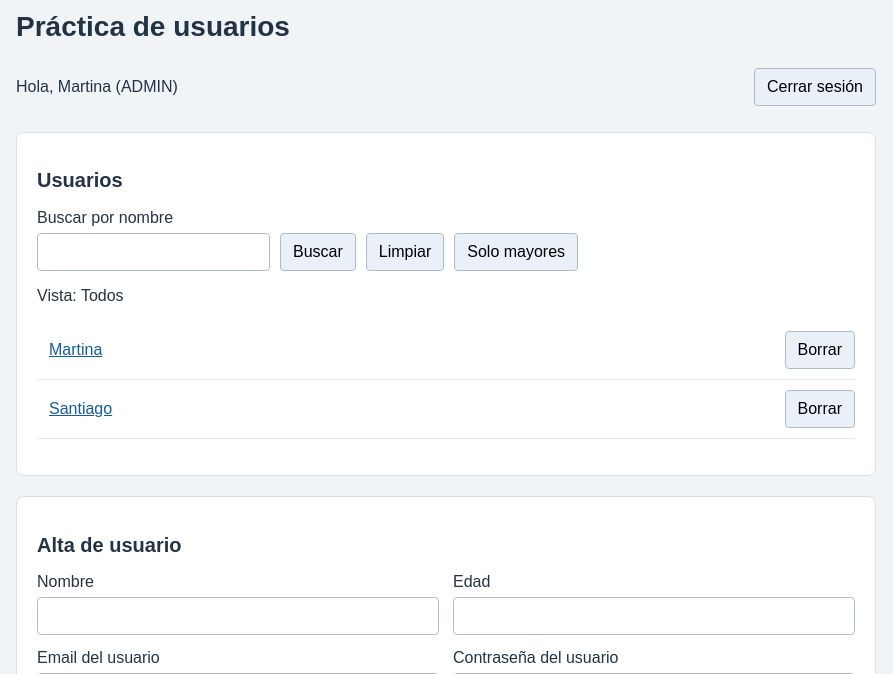
403 al borrar muestra detalle y conserva usuario
Expected: the text "Hola, Martina (ADMIN)" is shown, left=16, top=78, right=178, bottom=96
Expected: the button "Santiago" is shown, left=37, top=390, right=124, bottom=428
Click the 2nd button "Borrar". click: (820, 409)
box: left=784, top=390, right=855, bottom=428
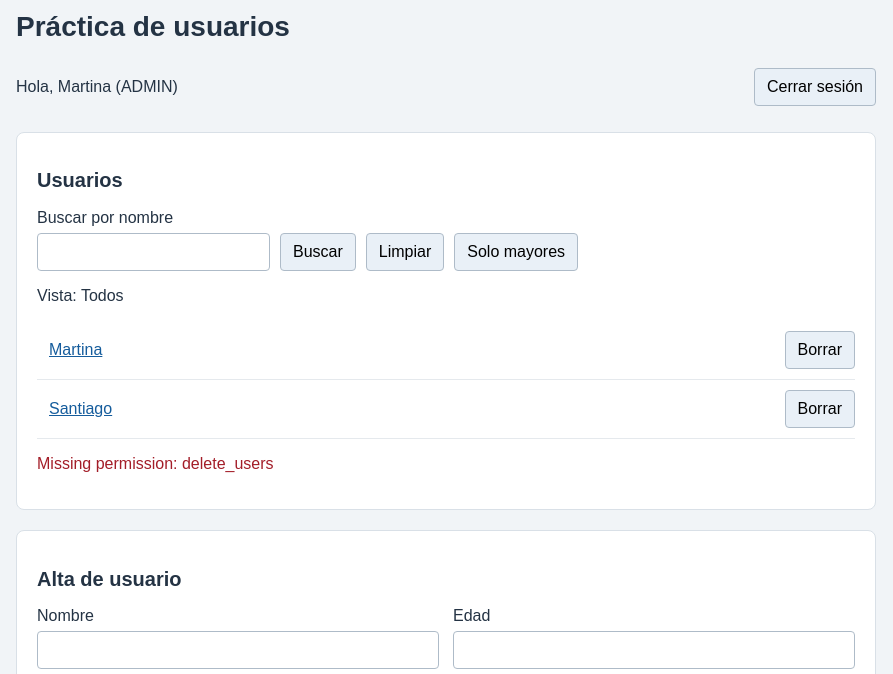
Expected: the button "Santiago" is shown, left=37, top=390, right=124, bottom=428
Expected: the text "Missing permission: delete_users" is shown, left=37, top=455, right=274, bottom=472
